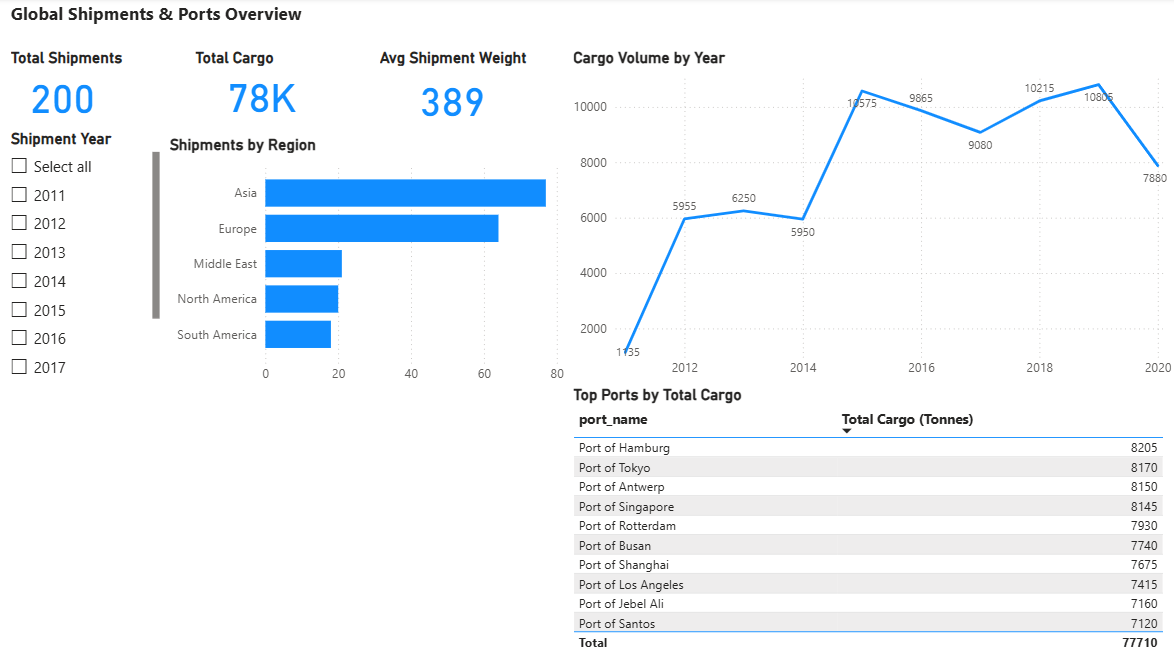

This screenshot's page, from the dashboard's own definition file:
{"tool":"powerbi","page":{"name":"Page 1","canvas":[1280,720],"ordinal":0},"visuals":[{"type":"advanceCardE03760C5AB684758B56AA29F9E6C257B","title":"Total Shipments","fields":{"mainMeasure":["ports_data.Total Shipments"]},"box":[16.2,54.7,131.2,87.4],"z":0},{"type":"advanceCardE03760C5AB684758B56AA29F9E6C257B","title":"Total Cargo","fields":{"mainMeasure":["ports_data.Total Cargo (Tonnes)"]},"box":[215.4,54.7,163.5,85.8],"z":1000},{"type":"advanceCardE03760C5AB684758B56AA29F9E6C257B","title":"Avg Shipment Weight","fields":{"mainMeasure":["ports_data.Avg Shipment Weight"]},"box":[414.5,54.7,176.5,93.9],"z":2000},{"type":"clusteredBarChart","title":"Shipments by Region","fields":{"Category":["ports_data.region"],"Y":["ports_data.Total Shipments"]},"box":[187.8,149,435.6,276.9],"z":3000},{"type":"lineChart","title":"Cargo Volume by Year","fields":{"Category":["shipments.shipment_year"],"Y":["ports_data.Total Cargo (Tonnes)"]},"box":[623.4,55.1,655.8,364.3],"z":4000},{"type":"tableEx","title":"Top Ports by Total Cargo","fields":{"Values":["ports_data.port_name","ports_data.Total Cargo (Tonnes)"]},"box":[623.4,419.4,655.8,301.2],"z":5000},{"type":"listSlicer","title":"Shipment Year","fields":{"Values":["shipments.shipment_year"]},"box":[16.2,142.5,171.6,276.9],"z":6000},{"type":"textbox","box":[16.2,0,398.3,58.3],"z":7000}]}

Visuals, with their boxes in screenshot pixels (x1, y1, x2, y2), scaled from the page's 1280x720 canvas onto the 1174x660 screenshot:
"Total Shipments" advanceCardE03760C5AB684758B56AA29F9E6C257B: (15,50,135,130)
"Total Cargo" advanceCardE03760C5AB684758B56AA29F9E6C257B: (198,50,348,129)
"Avg Shipment Weight" advanceCardE03760C5AB684758B56AA29F9E6C257B: (380,50,542,136)
"Shipments by Region" clusteredBarChart: (172,137,572,390)
"Cargo Volume by Year" lineChart: (572,51,1173,384)
"Top Ports by Total Cargo" tableEx: (572,384,1173,659)
"Shipment Year" listSlicer: (15,131,172,384)
textbox: (15,0,380,53)
